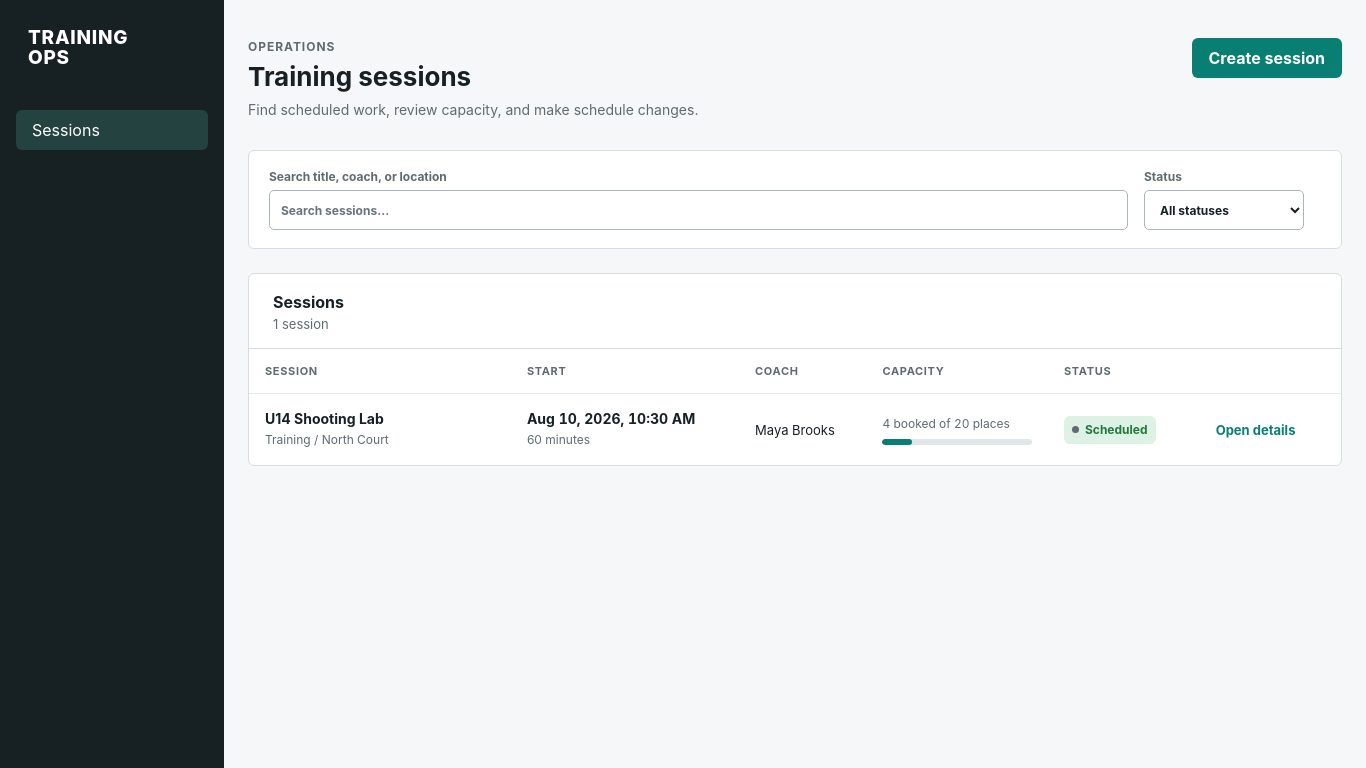
Test: TrainingSessionsPage › does not confirm when leaving an untouched create form via navigation
Click the button "Create session". click: (1267, 58)
box: [1192,38,1342,78]
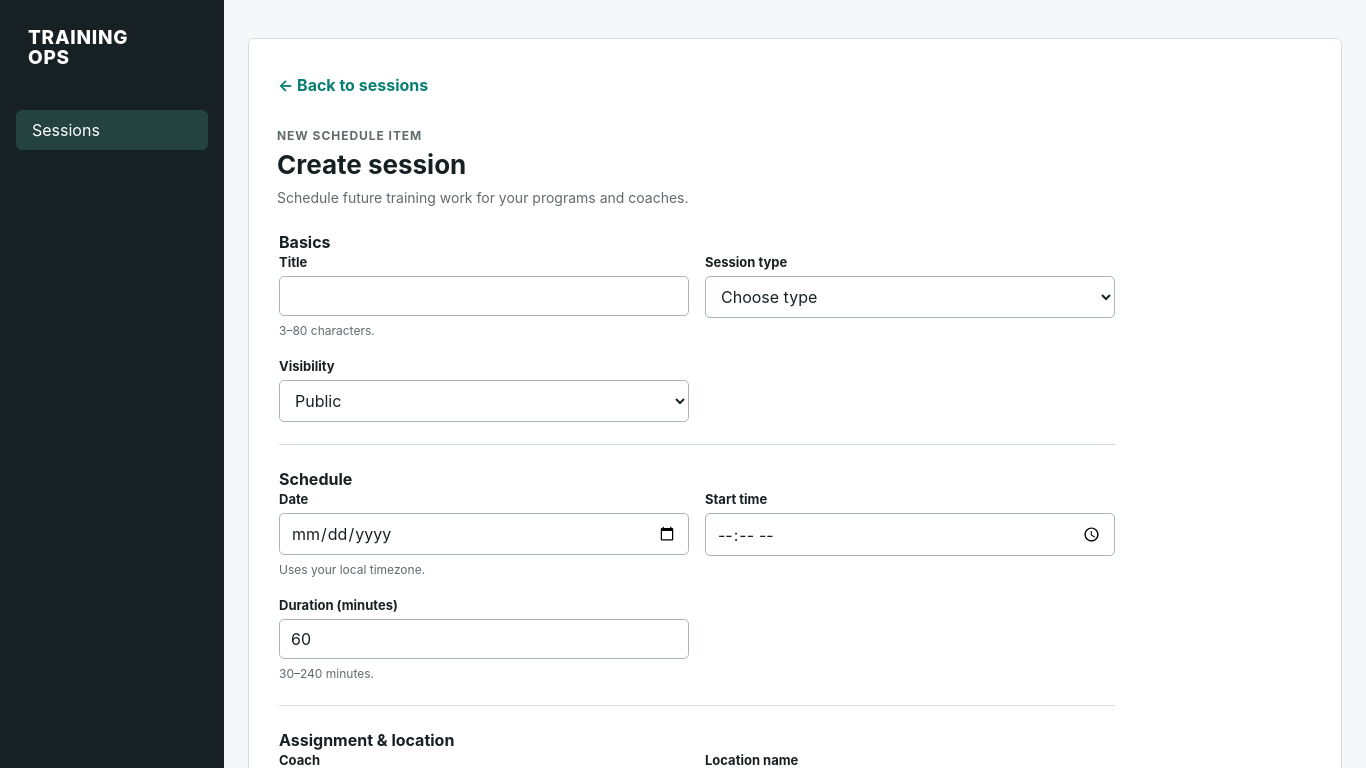
Click the link "Sessions". click: (112, 130)
box: [16,110,208,150]
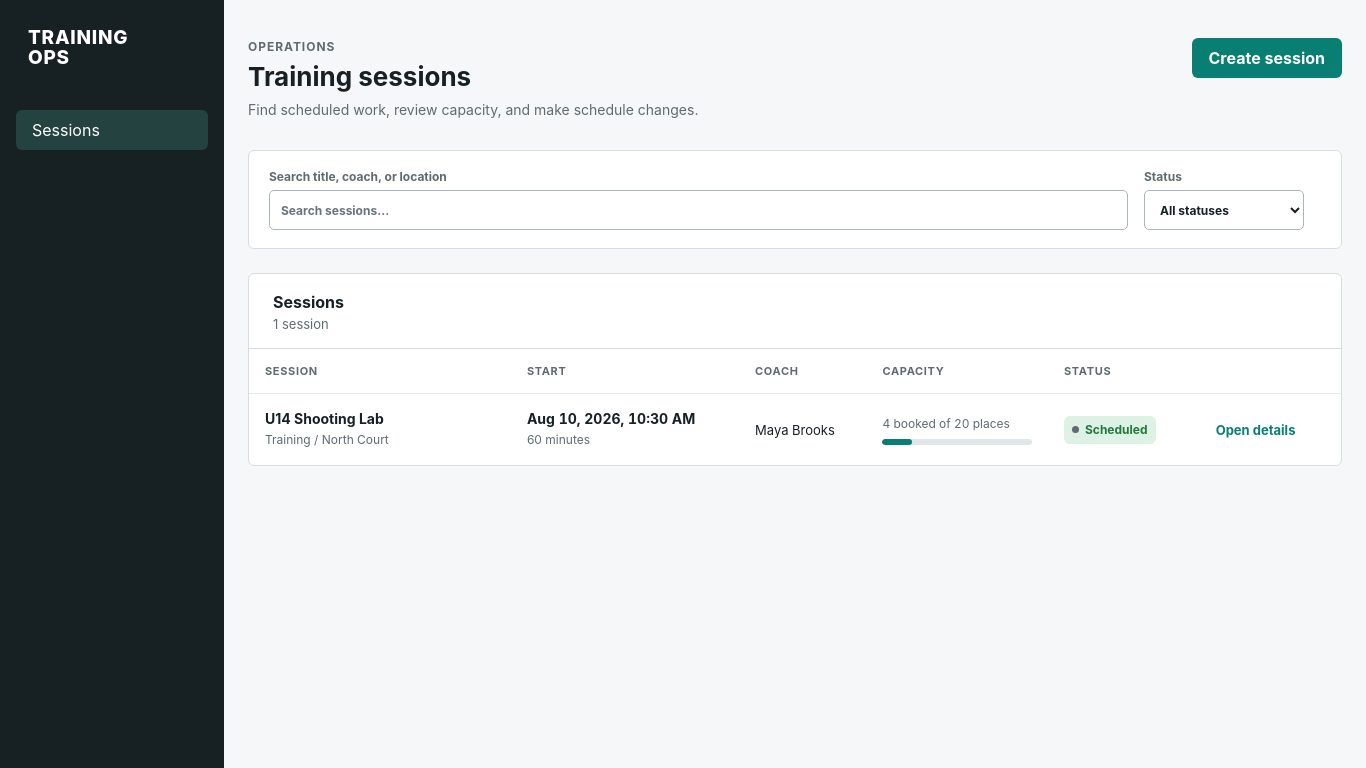
Expected: the heading "Training sessions" is shown, [248,61,471,92]
